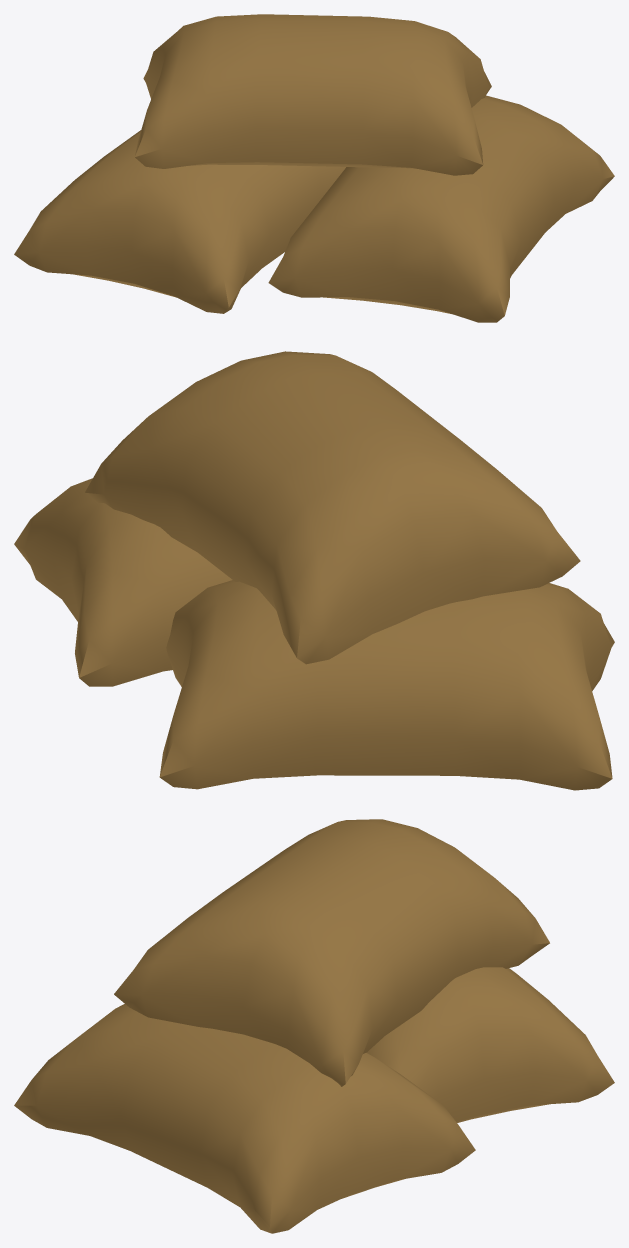
File: Village_Bags.glb
The picture shows the model from 3 angles, top to bottom: view 1: azimuth 30°, elevation 25°; view 2: azimuth 150°, elevation 25°; view 3: azimuth 270°, elevation 25°; orthographic projection. The views are drawn at different scales.
Visible parts, largest first — view 1: Bags; view 2: Bags; view 3: Bags.
Boxes of the visible parts, <box> form: Bags: <box>14,14,614,322</box>; Bags: <box>14,351,614,790</box>; Bags: <box>14,819,614,1233</box>.
Bounding box in the file's own units: 26.97 × 10.71 × 23.92.
